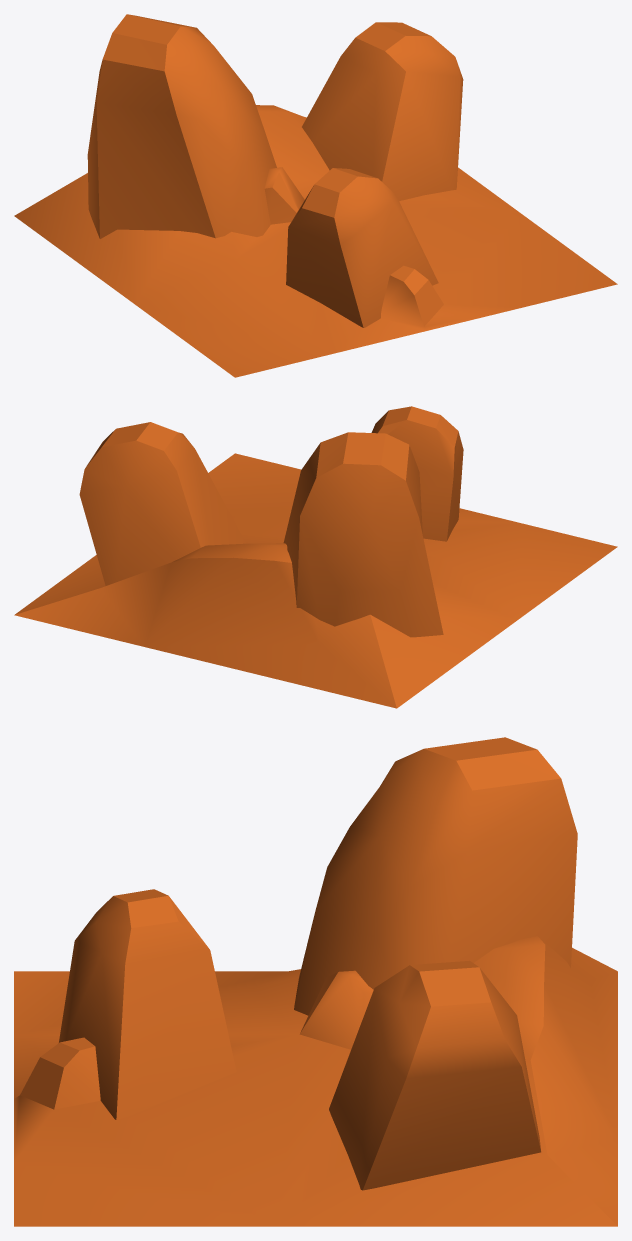
Rendered from OBJ_SmallRock_10.FBX.
3 renders of one model, top to bottom at view 1: azimuth 30°, elevation 25°; view 2: azimuth 150°, elevation 25°; view 3: azimuth 270°, elevation 25°, orthographic. The views are drawn at different scales.
Visible parts, largest first — view 1: OBJ_SmallRock_10; view 2: OBJ_SmallRock_10; view 3: OBJ_SmallRock_10.
Boxes of the visible parts, <box> form: OBJ_SmallRock_10: <box>14,14,617,377</box>; OBJ_SmallRock_10: <box>14,406,617,708</box>; OBJ_SmallRock_10: <box>14,737,617,1226</box>.
Bounding box in the file's own units: 6 × 3.15 × 6.
